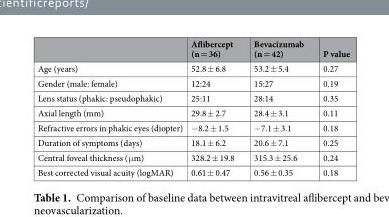table: (36, 37, 349, 178)
table column: (36, 37, 186, 178), (243, 37, 312, 178), (186, 37, 243, 178), (312, 37, 349, 178)
table column header: (36, 37, 349, 60)
table row: (36, 37, 349, 60), (36, 60, 349, 75), (36, 75, 349, 90), (36, 90, 349, 105), (36, 119, 349, 134), (36, 134, 349, 149), (36, 149, 349, 164), (36, 105, 349, 119), (36, 164, 349, 178)
